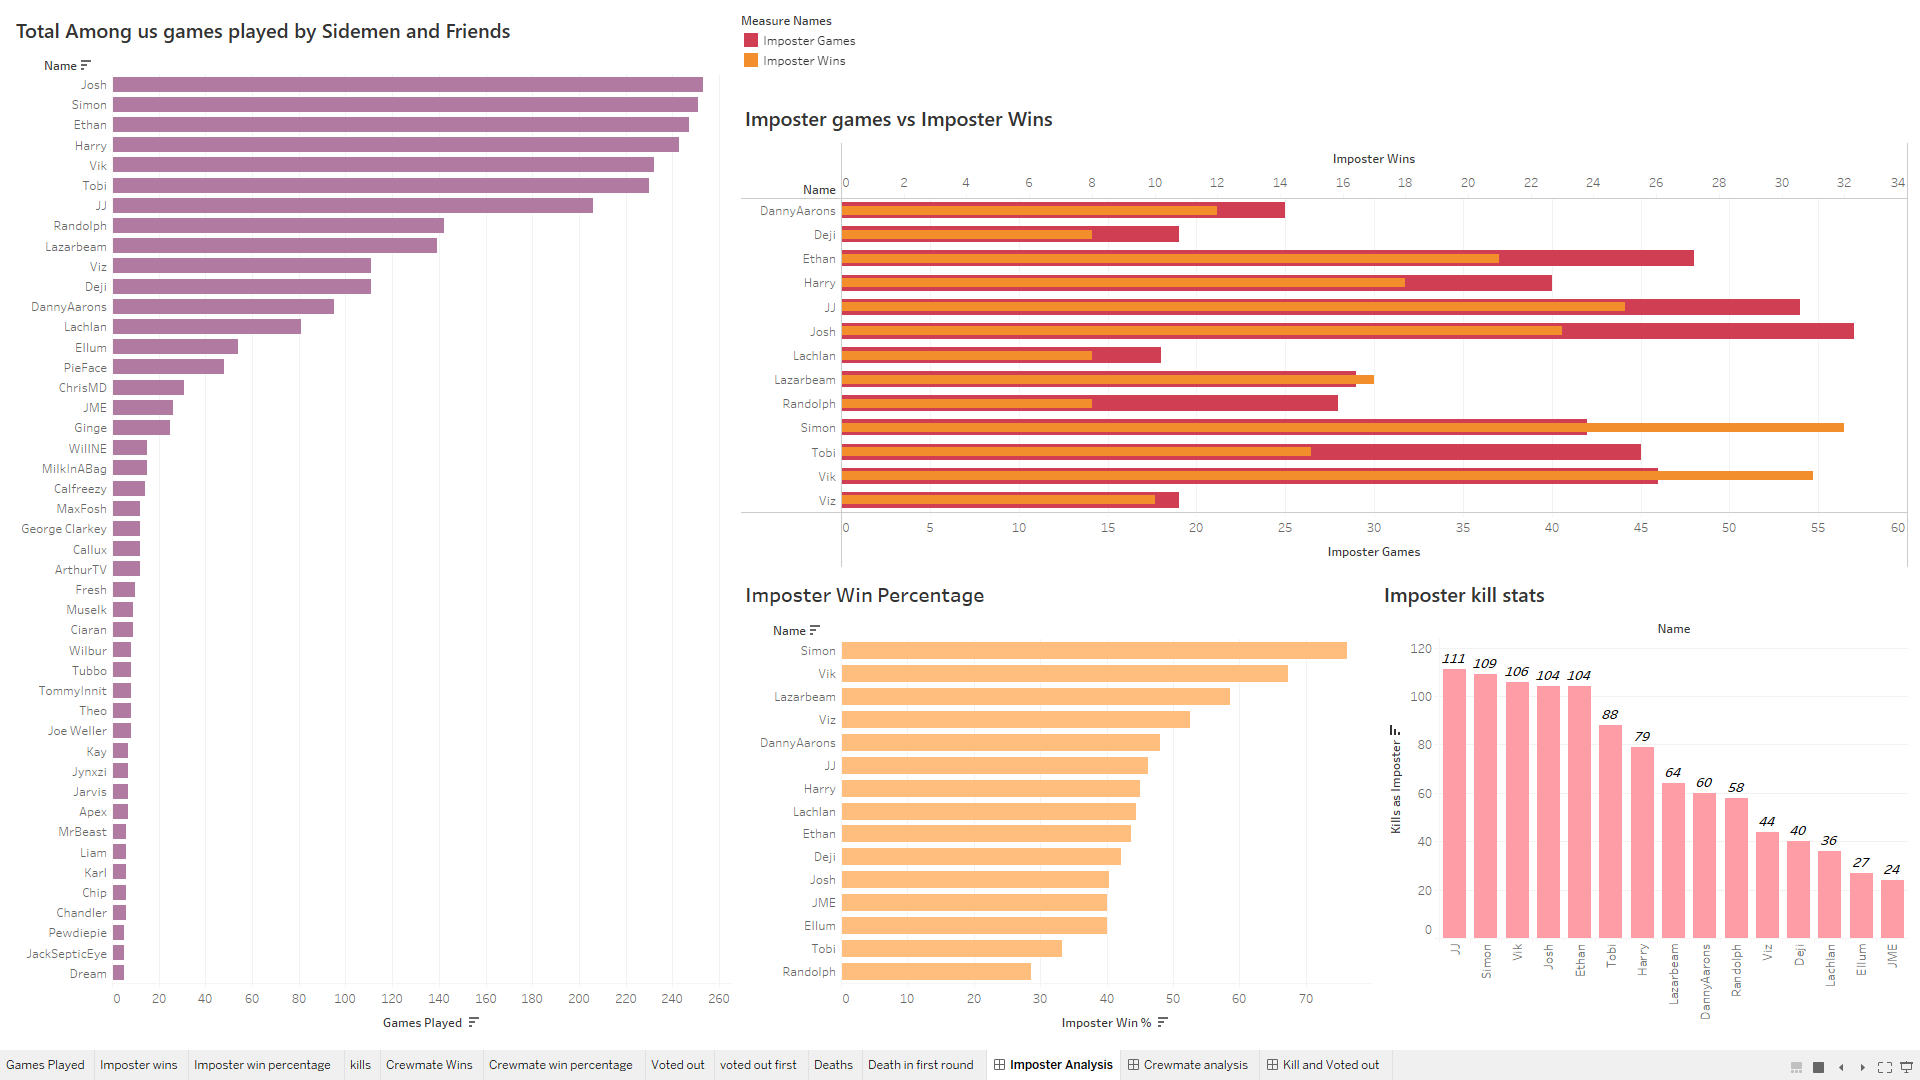

Layout of this report page (visuals, bound fields, positions):
{"tool":"tableau","page":{"name":"Imposter Analysis","canvas":[1000,1000],"units":"permille","ordinal":1},"visuals":[{"type":"worksheet","title":"Games Played","mark":"Bar","rows":["Name"],"cols":["Games Played"],"box":[4.7,8.9,379.2,982.1]},{"type":"legend","title":"Imposter wins","param":"[federated.0xwlhxd0jxvfds1dibkh81if3xmn].[:Measure Names]","box":[383.9,8.9,611.5,83.7]},{"type":"worksheet","title":"Imposter wins","mark":"Bar","rows":["Name"],"cols":["Imposter Games","Imposter Wins"],"box":[383.9,92.6,611.5,452]},{"type":"worksheet","title":"Imposter win percentage","mark":"Automatic","rows":["Name"],"cols":["Imposter Win %"],"box":[383.9,544.6,332.4,446.4]},{"type":"worksheet","title":"kills","mark":"Bar","rows":["Kills as Imposter"],"cols":["Name"],"box":[716.2,544.6,279.1,446.4]}]}

Visuals, with their boxes on the dashboard's canvas, which has no fixed pixel size, in thousandths of its width and height (x1, y1, x2, y2). These are canvas units, not pixel positions in the 1920x1080 screenshot, which may show the page scaled, cropped or inside an application window:
"Games Played" worksheet (Bar marks): 5 9 384 991
"Imposter wins" legend: 384 9 995 93
"Imposter wins" worksheet (Bar marks): 384 93 995 545
"Imposter win percentage" worksheet: 384 545 716 991
"kills" worksheet (Bar marks): 716 545 995 991
